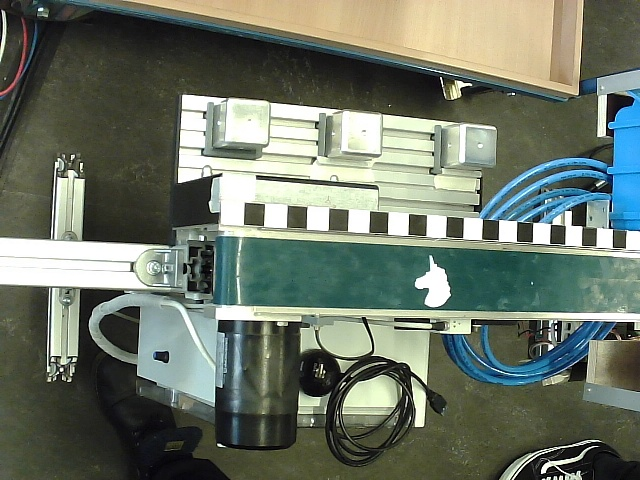unicorn: (414, 255, 451, 308)
